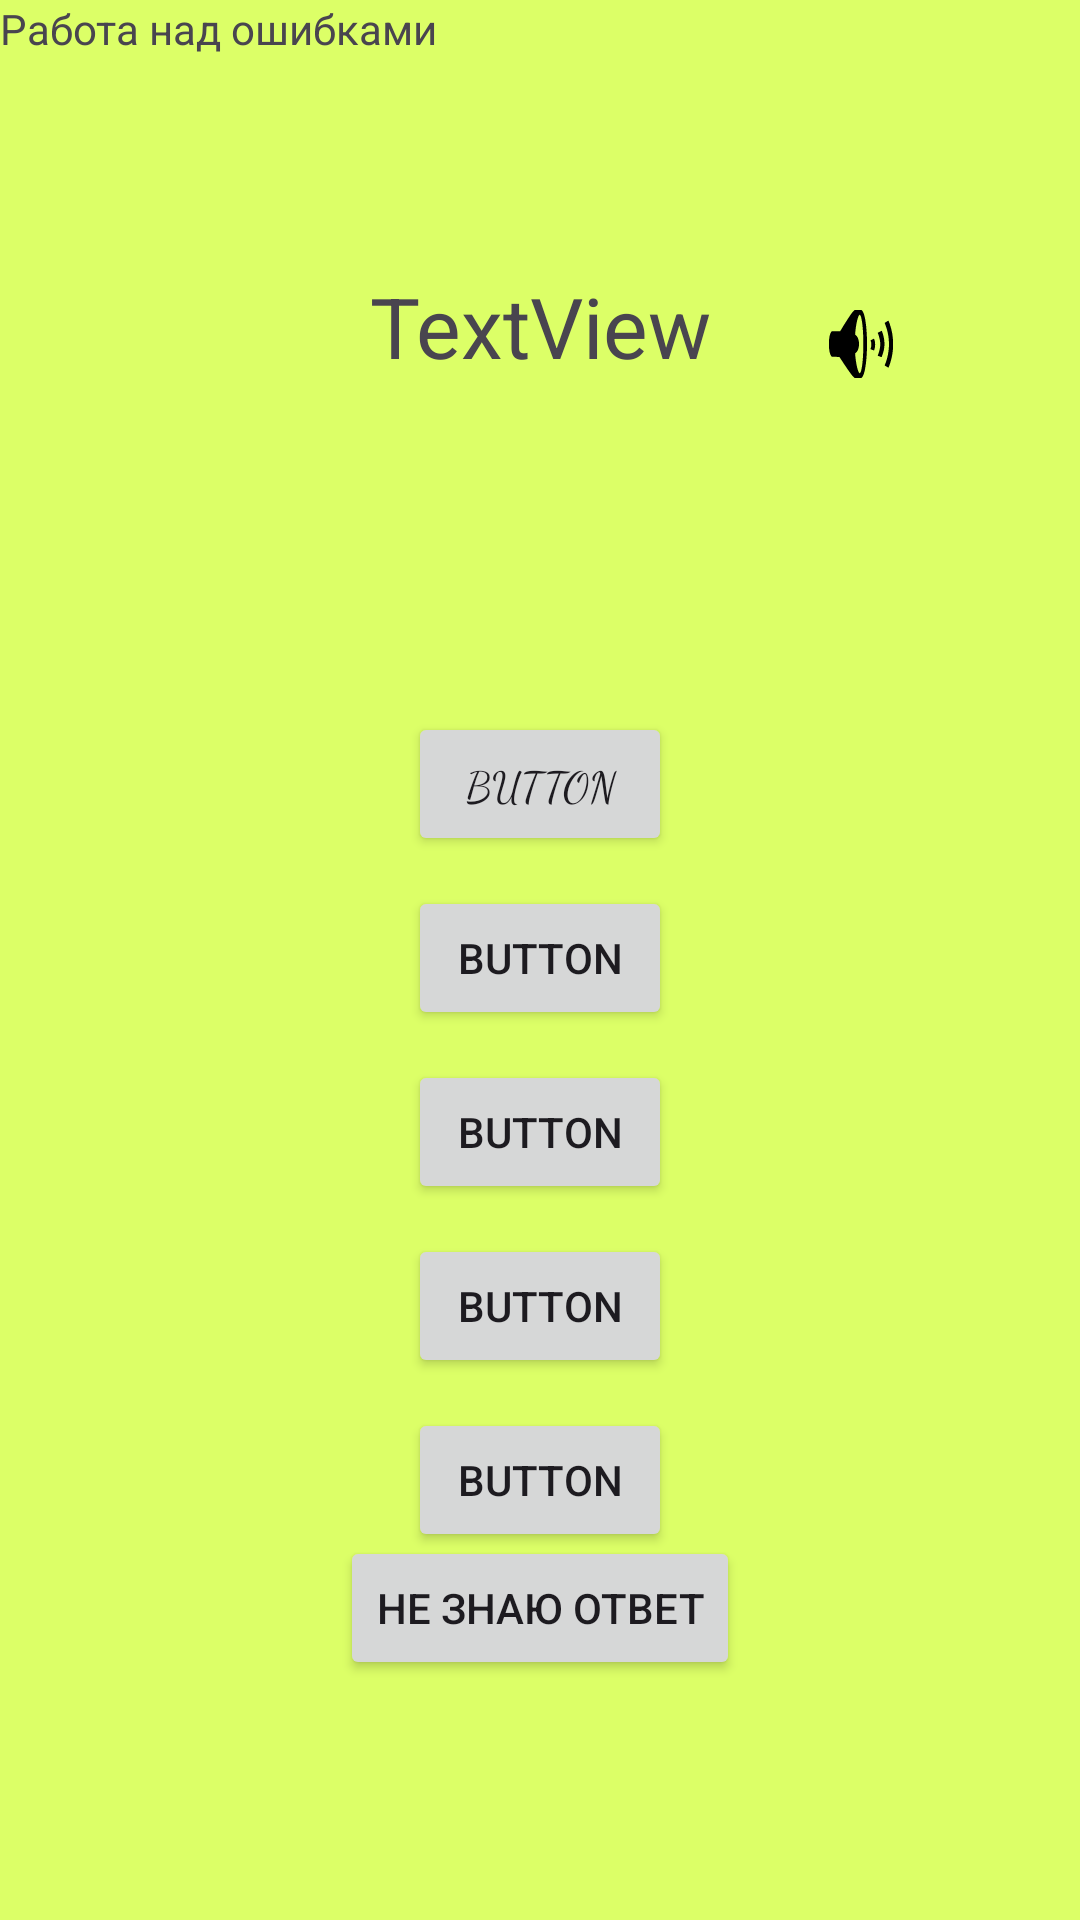

Point at icon controls on the screen. Image size 1080 x 1920, points as (x,y).
lock silent mode off: (861,344)
